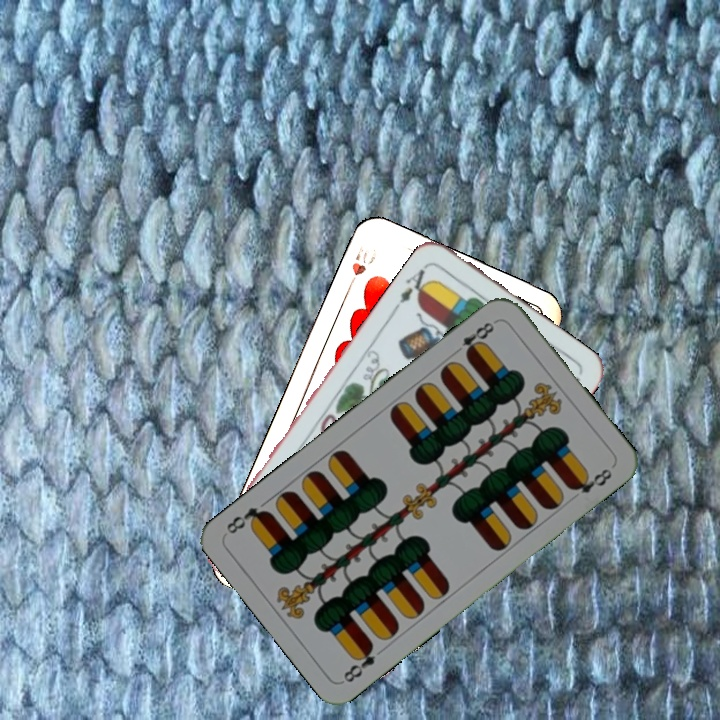E8: (449, 316, 500, 360), (339, 639, 378, 685)
EA: (390, 261, 436, 312)
H10: (342, 241, 378, 294)
